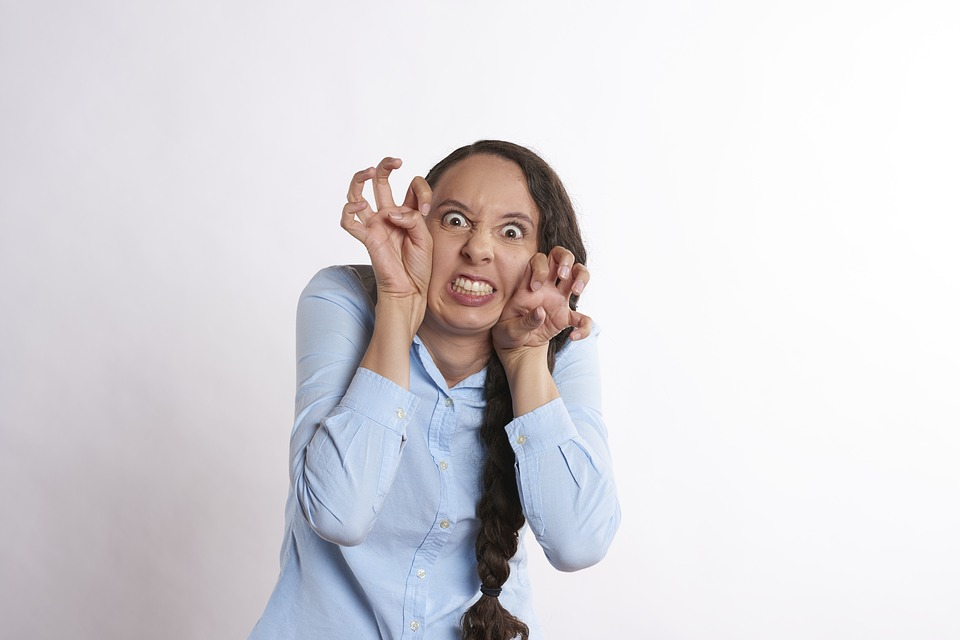angry: (410, 176, 542, 352)
